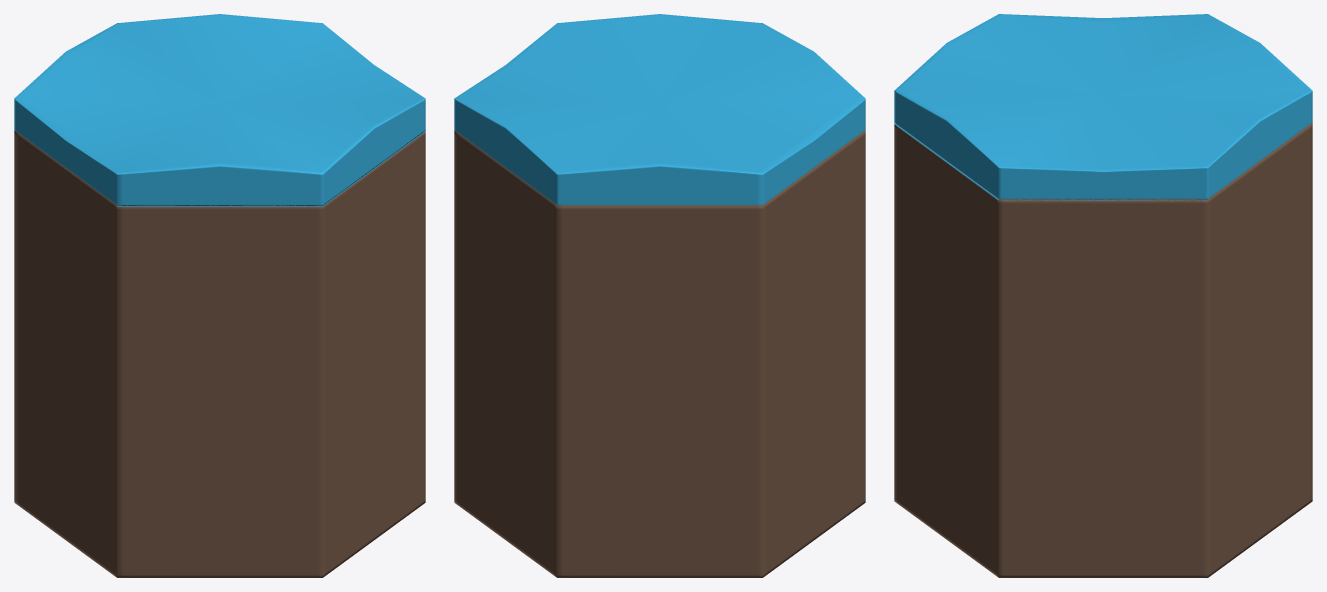
File: water_hex.fbx
3 renders of one model, left to right at view 1: azimuth 30°, elevation 25°; view 2: azimuth 150°, elevation 25°; view 3: azimuth 270°, elevation 25°, orthographic.
Parts seen in each view (by area): view 1: Cylinder, Cylinder.001; view 2: Cylinder, Cylinder.001; view 3: Cylinder, Cylinder.001.
Boxes of the visible parts, <box> form: Cylinder: <box>14,130,425,577</box>; Cylinder.001: <box>14,14,425,206</box>; Cylinder: <box>454,130,865,577</box>; Cylinder.001: <box>454,14,865,205</box>; Cylinder: <box>894,123,1312,577</box>; Cylinder.001: <box>894,14,1312,200</box>.
Size of the model in its own units: 173 by 222 by 200.
